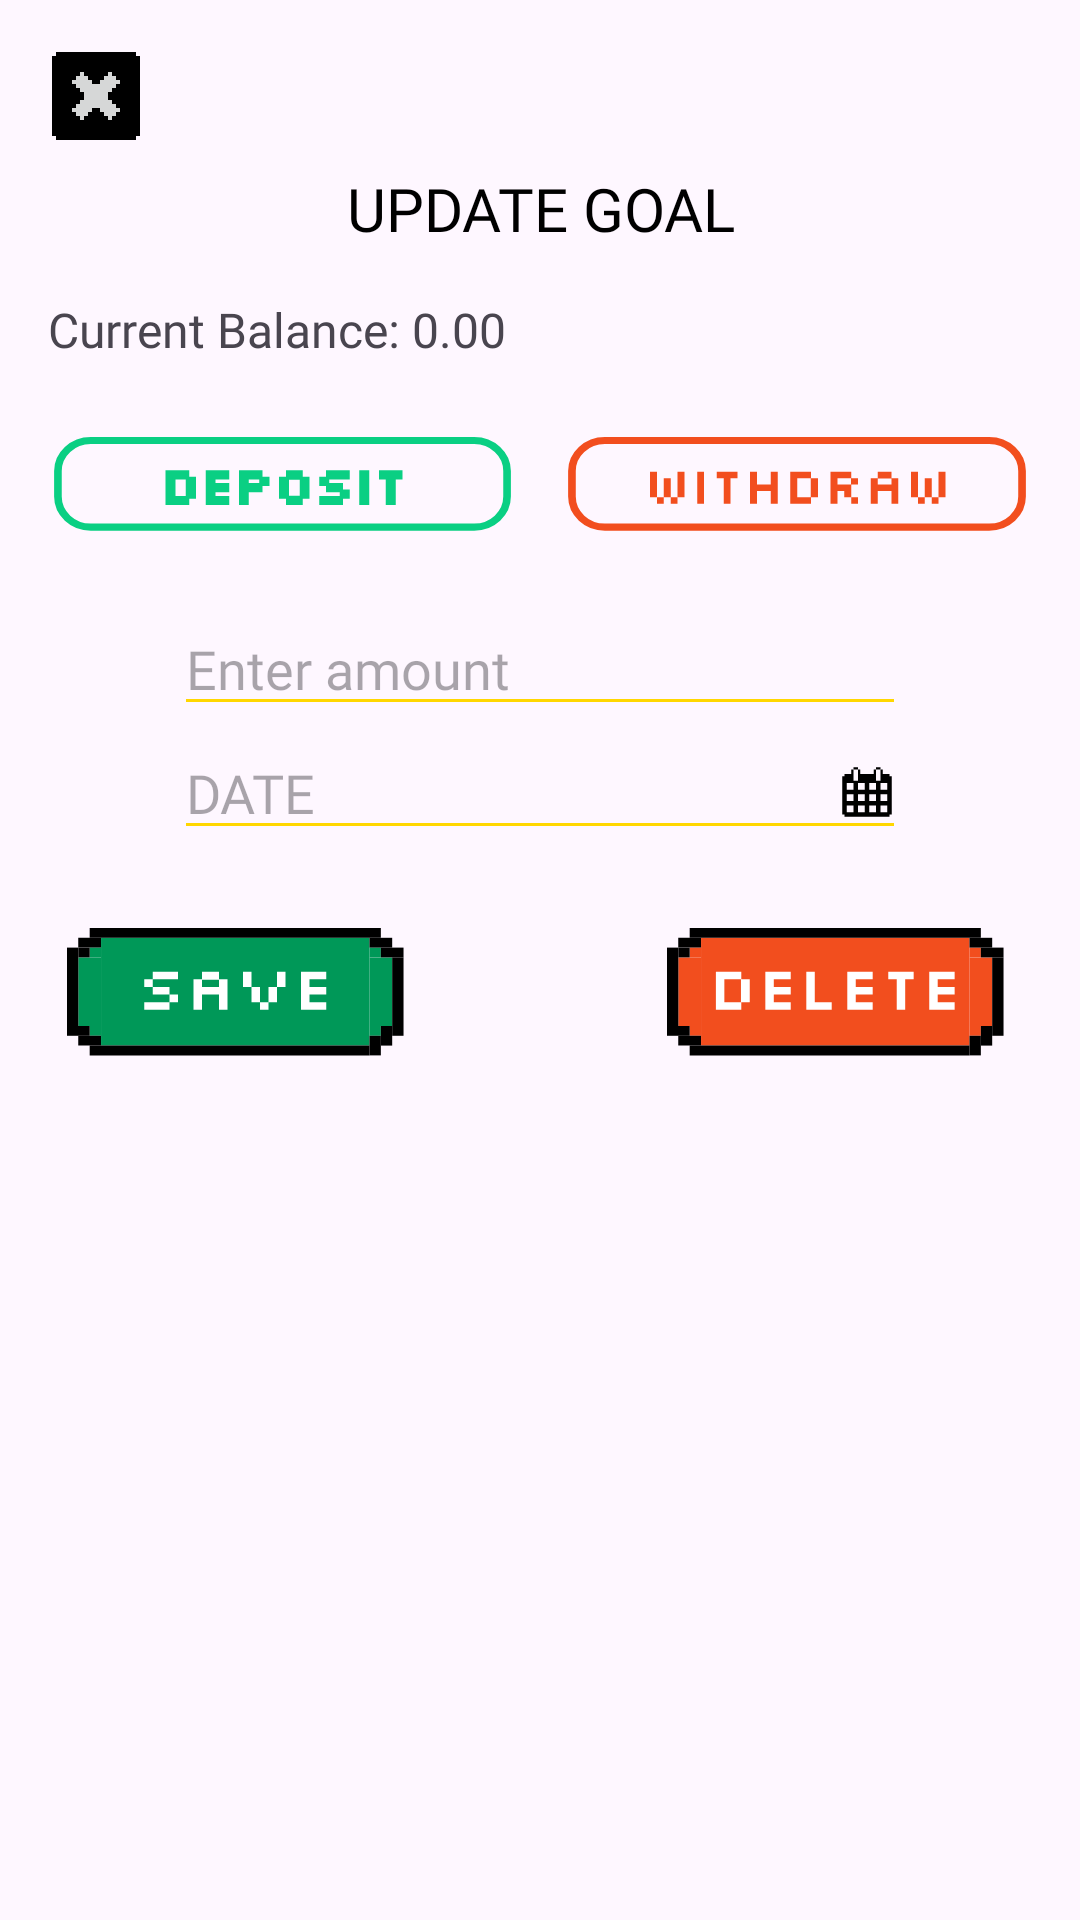

Locate icon controls on the screen. Image size 1080px x 1920px, boxes as (x1, y1, x2, y2).
window close: (52, 52, 140, 140)
